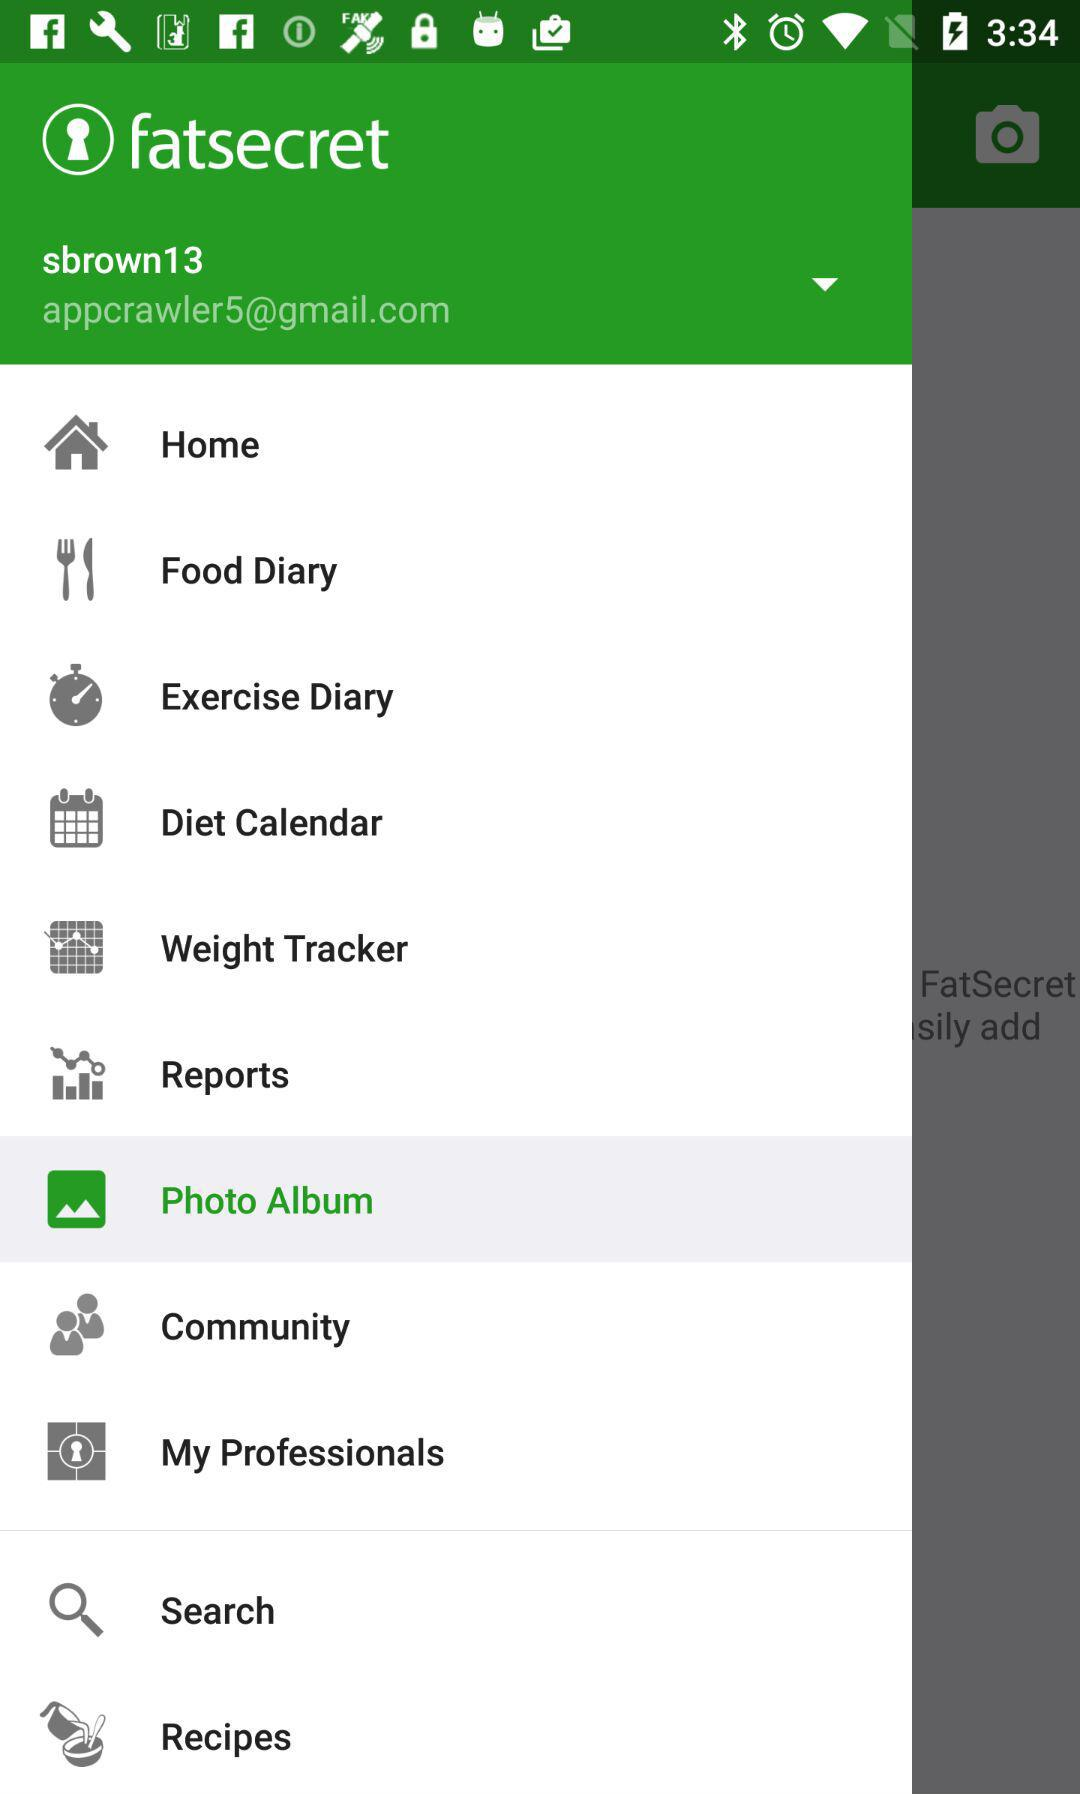Drawer: (1, 64, 913, 1794)
Icon: (975, 105, 1040, 164), (44, 414, 110, 472), (50, 1292, 106, 1357), (49, 662, 104, 728), (50, 788, 105, 850), (44, 921, 105, 975), (47, 1583, 106, 1638), (50, 1046, 108, 1101), (810, 278, 840, 293)
Image: (42, 103, 117, 177), (40, 1700, 108, 1768), (47, 1421, 108, 1483), (47, 1169, 108, 1229), (56, 537, 96, 604)
Text: (42, 293, 451, 333), (129, 113, 391, 172), (161, 1435, 446, 1475), (160, 932, 410, 971), (163, 680, 396, 720), (161, 1311, 352, 1349), (163, 807, 386, 838), (161, 1184, 375, 1216), (163, 555, 340, 593), (42, 243, 205, 276), (161, 1721, 293, 1758), (161, 1060, 290, 1097), (161, 1594, 275, 1626), (163, 431, 261, 460)
UpperTaskBar: (1, 1, 1080, 64)
